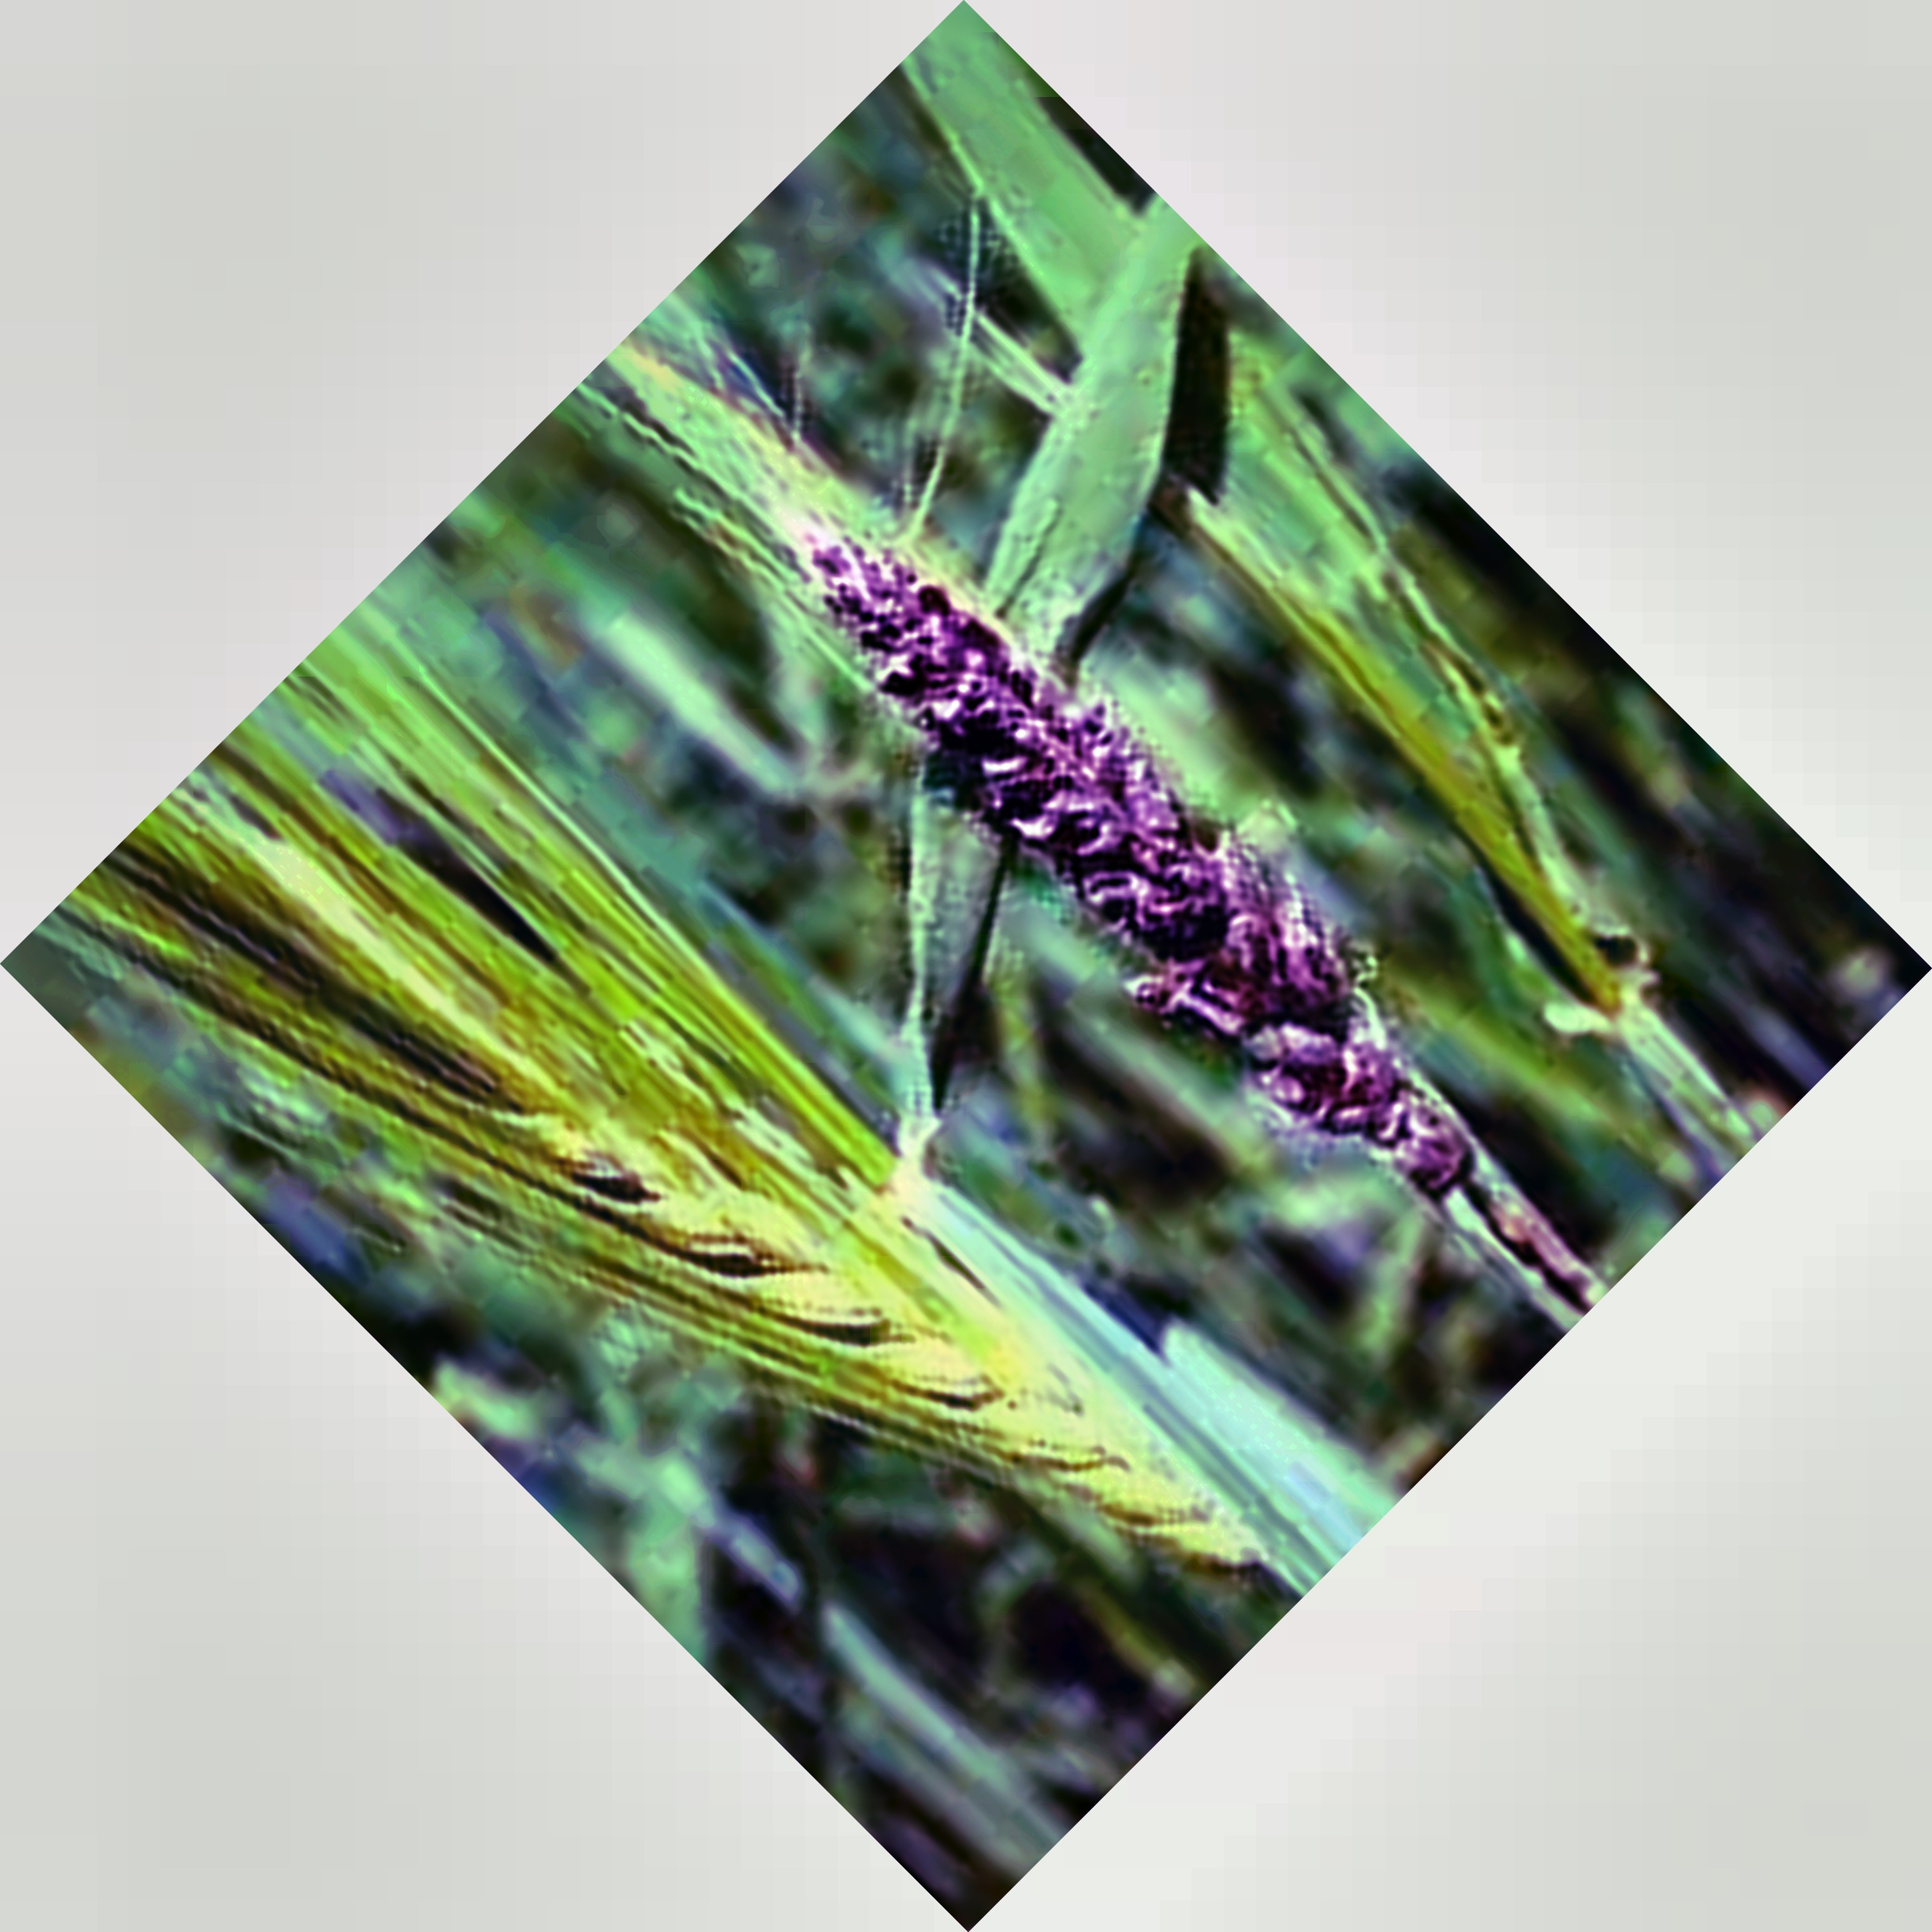Wheat Loose Smut: (830, 541, 1361, 1090)
